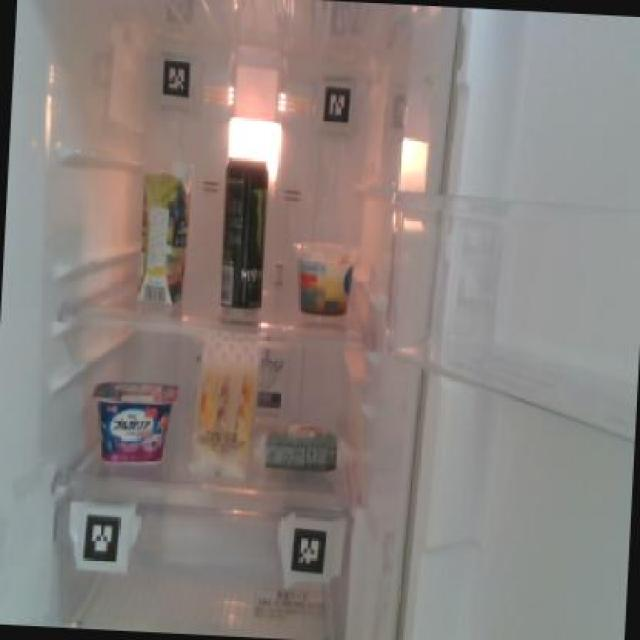energy_drink: (215, 152, 270, 312)
pudding: (286, 236, 359, 318)
rice_ball: (256, 419, 349, 475)
sandwich: (188, 333, 260, 484)
smoothie: (134, 157, 192, 306)
yogurt: (84, 373, 178, 467)
